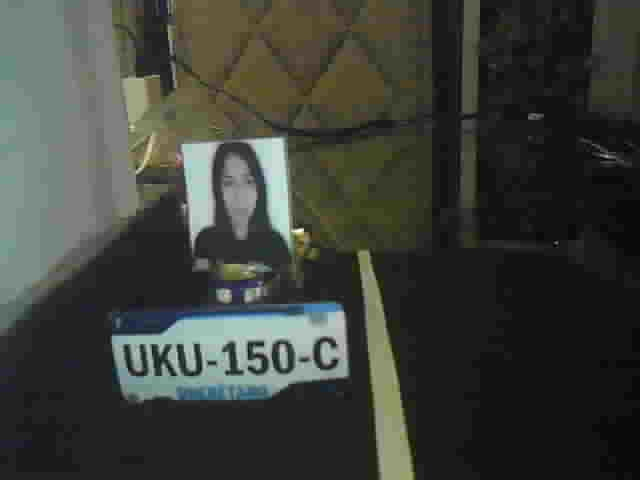PLACA: (106, 299, 352, 407)
ROSTRO: (195, 143, 291, 258)
